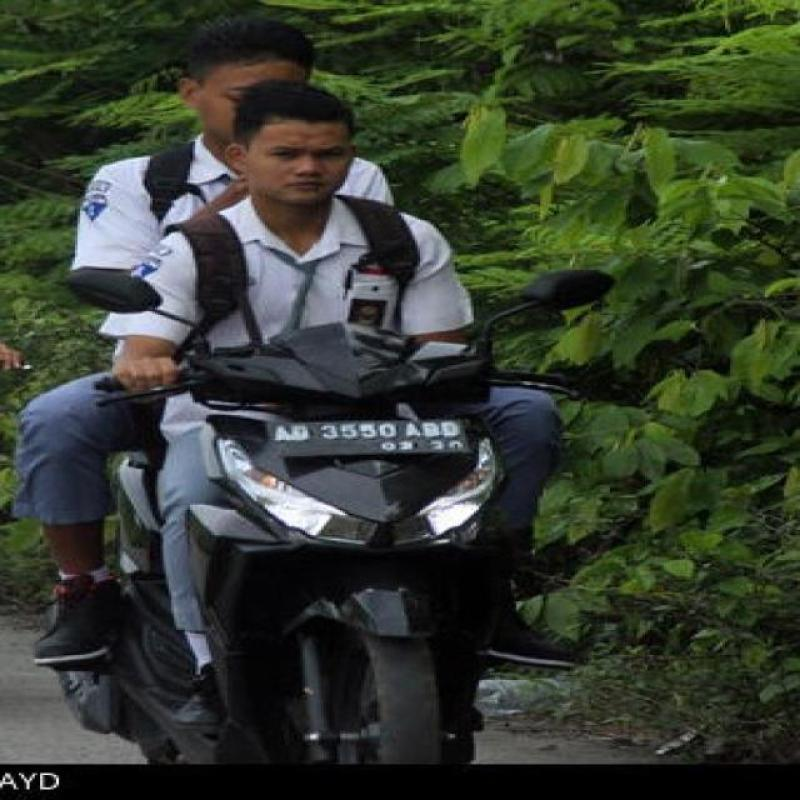nohelmet: (234, 70, 365, 204)
